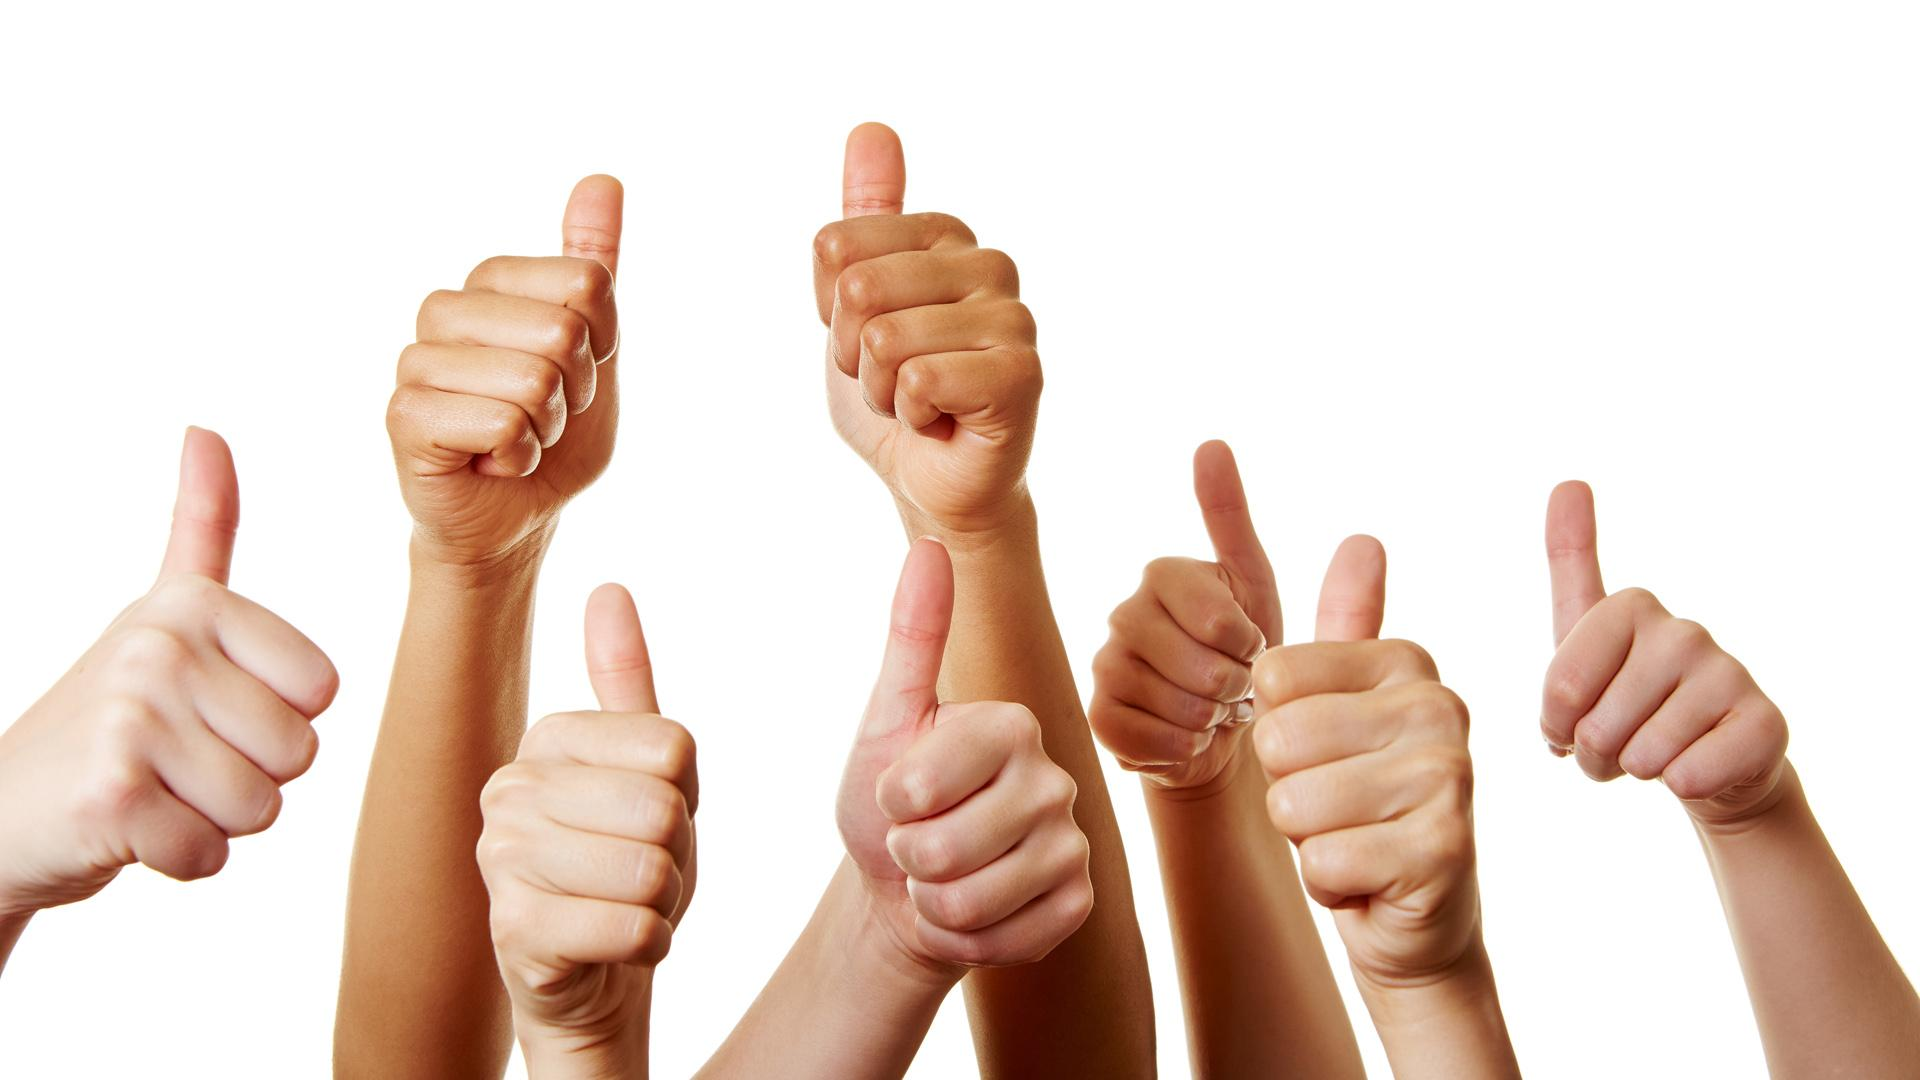thumbsup: (80, 422, 344, 899), (861, 534, 1097, 978), (1246, 529, 1493, 949), (471, 580, 707, 1019), (808, 117, 1054, 516), (1535, 469, 1791, 829), (382, 173, 630, 541), (1085, 436, 1286, 781)
